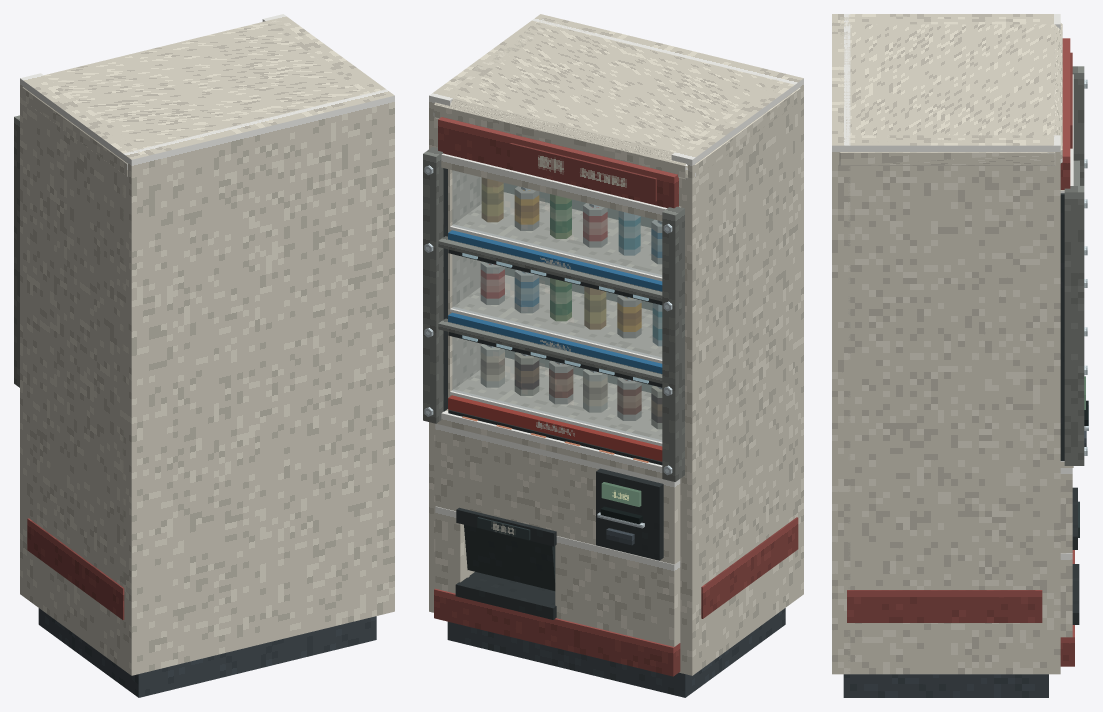
Rendered from f_vending_reinforced.glb.
The picture shows the model from 3 angles, left to right: view 1: azimuth 30°, elevation 25°; view 2: azimuth 150°, elevation 25°; view 3: azimuth 270°, elevation 25°; orthographic projection. The views are drawn at different scales.
Visible parts, largest first — view 1: block_enamel-back, block_enamel-side (×2), block_rounded-enamel-cap, block_recessed-kickplate, block_painted-side-stripe, block_bolted-display-stile; view 2: block_enamel-side (×2), block_sample-glazing (×3), block_rounded-enamel-cap, block_lower-service-panel, block_bolted-display-stile (×2), block_right-lower-return, block_painted-bottom-band, block_enamel-back, block_recessed-kickplate, block_sample-shelf-0, block_sample-shelf-1, block_sample-shelf-2 (+37 smaller); view 3: block_enamel-side (×2), block_rounded-enamel-cap, block_enamel-back, block_bolted-display-stile (×2), block_painted-side-stripe, block_recessed-kickplate, block_header-colour-band, block_display-rebate, block_lower-service-panel, block_left-lower-return, block_painted-bottom-band, block_retrieval-frame-bottom.
Boxes of the visible parts, <box> form: block_enamel-back: <box>122,89,394,675</box>; block_enamel-side (×2): <box>20,14,385,669</box>; block_rounded-enamel-cap: <box>22,18,364,176</box>; block_recessed-kickplate: <box>38,608,376,697</box>; block_painted-side-stripe: <box>27,518,124,619</box>; block_bolted-display-stile: <box>14,115,19,387</box>; block_enamel-side (×2): <box>429,20,794,675</box>; block_sample-glazing (×3): <box>452,170,662,442</box>; block_rounded-enamel-cap: <box>433,18,800,179</box>; block_lower-service-panel: <box>435,423,680,564</box>; block_bolted-display-stile (×2): <box>423,147,684,481</box>; block_right-lower-return: <box>555,536,680,646</box>; block_painted-bottom-band: <box>434,588,680,676</box>; block_enamel-back: <box>532,14,803,600</box>; block_recessed-kickplate: <box>447,608,785,697</box>; block_sample-shelf-0: <box>450,192,662,281</box>; block_sample-shelf-1: <box>450,275,662,363</box>; block_sample-shelf-2: <box>450,357,662,446</box>; block_enamel-side (×2): <box>848,14,1060,674</box>; block_rounded-enamel-cap: <box>839,17,1062,165</box>; block_enamel-back: <box>832,14,850,674</box>; block_bolted-display-stile (×2): <box>1064,66,1084,465</box>; block_painted-side-stripe: <box>847,590,1042,622</box>; block_recessed-kickplate: <box>843,674,1048,697</box>; block_header-colour-band: <box>1060,38,1070,189</box>; block_display-rebate: <box>1060,193,1064,460</box>; block_lower-service-panel: <box>1060,468,1072,552</box>; block_left-lower-return: <box>1060,553,1072,637</box>; block_painted-bottom-band: <box>1060,550,1074,666</box>; block_retrieval-frame-bottom: <box>1072,564,1079,624</box>.
Bounding box in the file's own units: 0.951 × 1.86 × 0.7745.
Materials: 3 (3 with a texture image).
